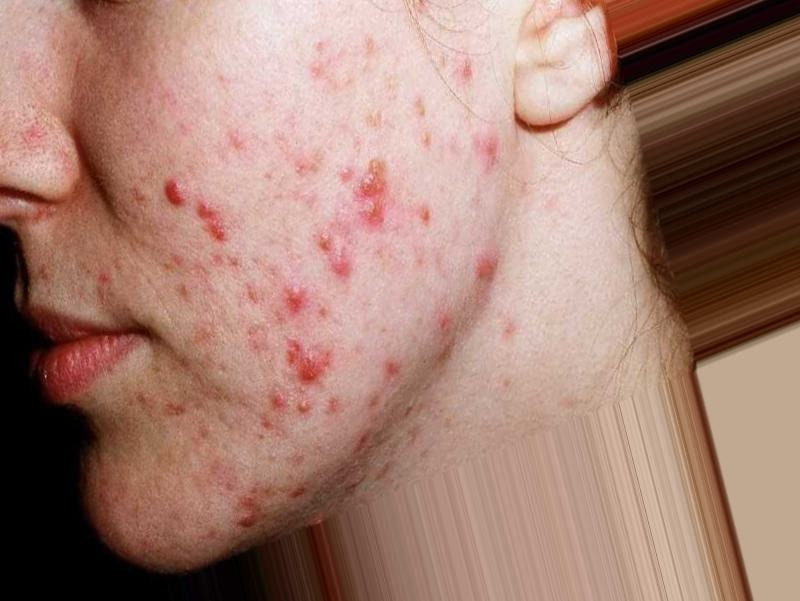Acne: (159, 55, 474, 537)
